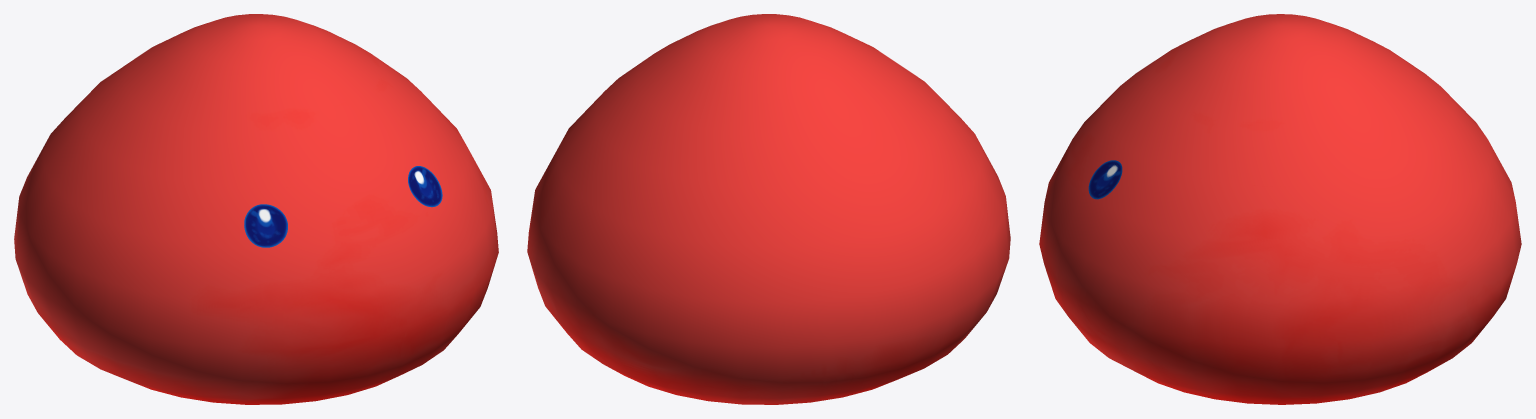
Rendered from fireslimeanim.gltf.
The picture shows the model from 3 angles, left to right: view 1: azimuth 30°, elevation 25°; view 2: azimuth 150°, elevation 25°; view 3: azimuth 270°, elevation 25°; orthographic projection.
Visible parts, largest first — view 1: Slime_Slime_0; view 2: Slime_Slime_0; view 3: Slime_Slime_0.
Part boxes in pixels (box(x1,y1,x2,y2)): Slime_Slime_0: box(14, 14, 498, 404); Slime_Slime_0: box(527, 14, 1010, 404); Slime_Slime_0: box(1039, 14, 1521, 404).
Bounding box in the file's own units: 1.03 × 0.7421 × 1.03.
Materials: 1 (1 with a texture image).
